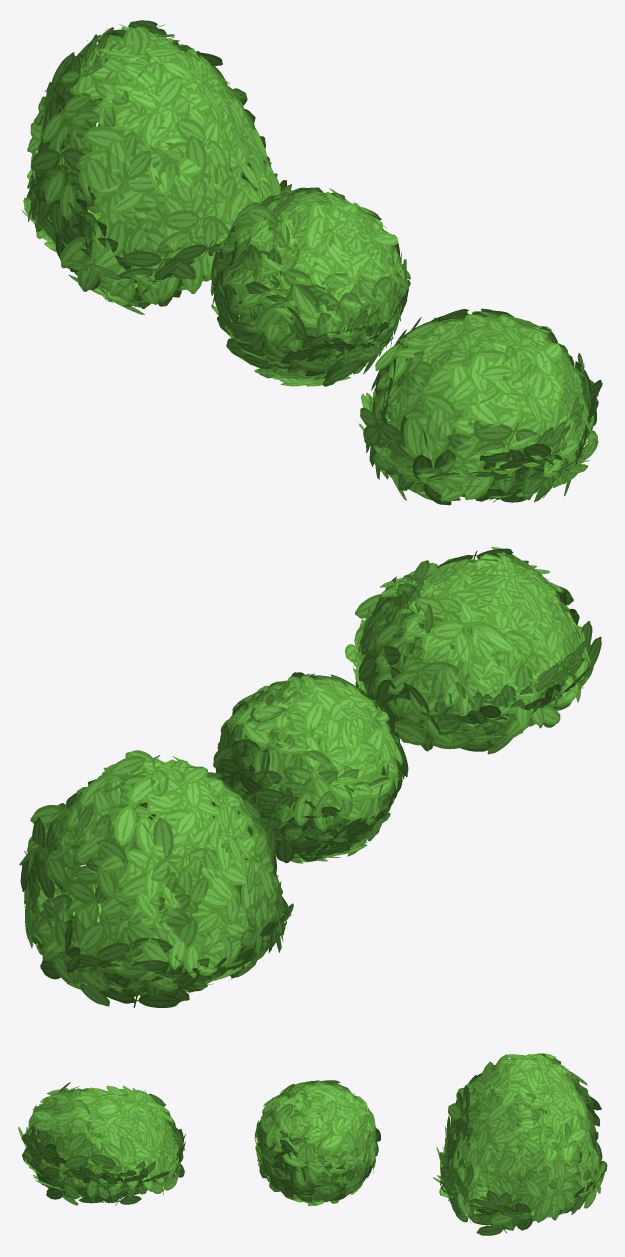
File: Arbustos.fbx
3 renders of one model, top to bottom at view 1: azimuth 30°, elevation 25°; view 2: azimuth 150°, elevation 25°; view 3: azimuth 270°, elevation 25°, orthographic. The views are drawn at different scales.
Parts seen in each view (by area): view 1: Arbusto3, Arbusto2, Arbusto1; view 2: Arbusto3, Arbusto2, Arbusto1; view 3: Arbusto3, Arbusto2, Arbusto1.
Boxes of the visible parts, box(x1,y1,x2,y2) form: Arbusto3: box(21, 20, 306, 314); Arbusto2: box(357, 308, 602, 505); Arbusto1: box(210, 187, 410, 386); Arbusto3: box(19, 750, 293, 1007); Arbusto2: box(345, 546, 601, 754); Arbusto1: box(213, 672, 408, 863); Arbusto3: box(433, 1053, 607, 1235); Arbusto2: box(18, 1082, 185, 1205); Arbusto1: box(254, 1080, 380, 1205).
Size of the model in its own units: 302 by 299 by 964.
3 materials, 3 textured.
